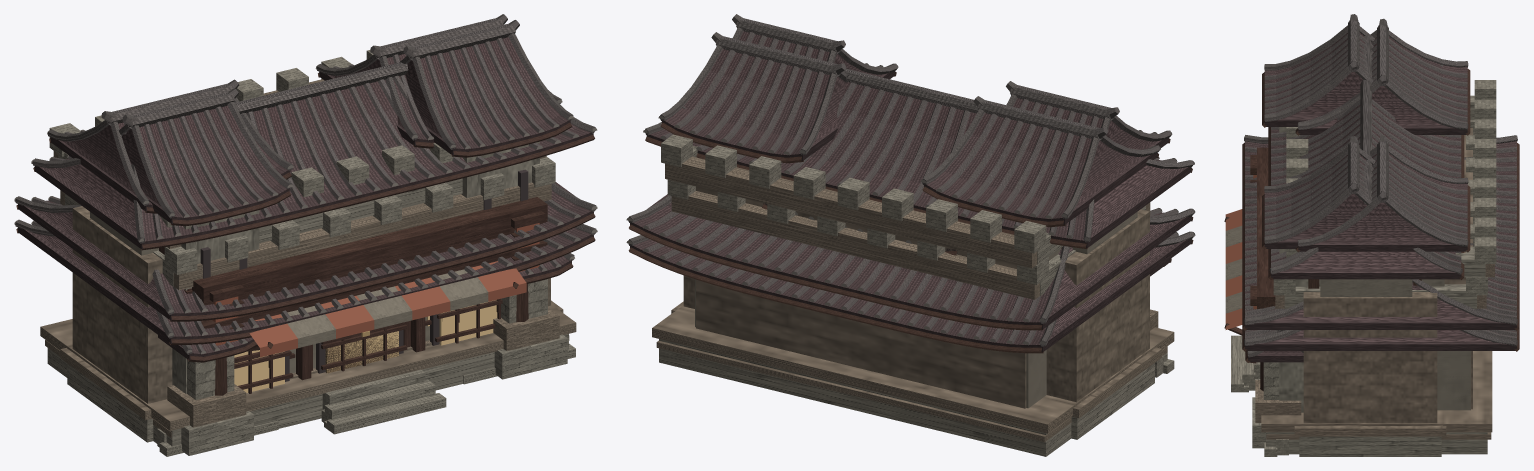
File: regional_fortress.glb
3 views of the same model, side by side, from view 1: azimuth 30°, elevation 25°; view 2: azimuth 150°, elevation 25°; view 3: azimuth 270°, elevation 25° (orthographic). The views are drawn at different scales.
Visible parts, largest first — view 1: hall, gate, wing, home, shop, cottage; view 2: hall, wing, gate, home, cottage; view 3: gate, hall, wing, home, cottage, shop.
Boxes of the visible parts, x1,y1,x2,y2 form: hall: [40, 20, 576, 455]; gate: [31, 62, 597, 456]; wing: [45, 14, 569, 437]; home: [14, 182, 597, 380]; shop: [234, 261, 526, 393]; cottage: [14, 219, 597, 370]; hall: [652, 14, 1174, 456]; wing: [656, 32, 1167, 442]; gate: [643, 68, 1194, 439]; home: [626, 194, 1195, 407]; cottage: [626, 231, 1195, 353]; gate: [1264, 34, 1464, 456]; hall: [1231, 14, 1496, 454]; wing: [1241, 18, 1491, 439]; home: [1242, 135, 1519, 409]; cottage: [1242, 329, 1519, 351]; shop: [1224, 209, 1242, 335].
Size of the model in its own units: 2.25 by 1.42 by 1.41.
Materials: 1 (1 with a texture image).
